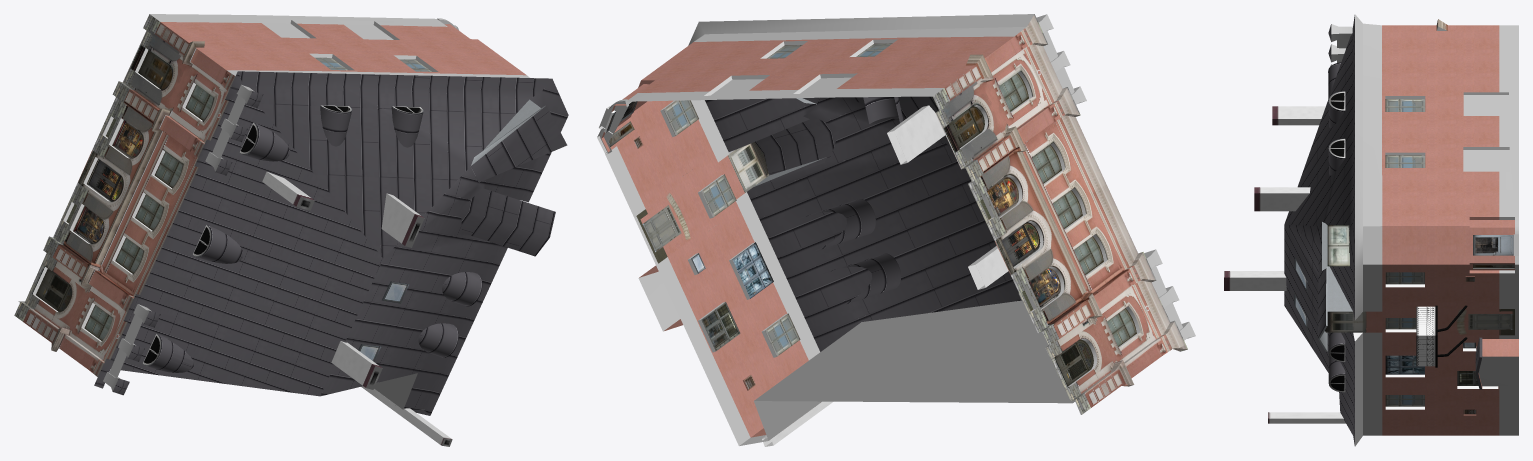
The model's file is Vene_12a.obj.
3 views of the same model, side by side, from view 1: azimuth 30°, elevation 25°; view 2: azimuth 150°, elevation 25°; view 3: azimuth 270°, elevation 25° (orthographic). The views are drawn at different scales.
Parts seen in each view (by area): view 1: Vene_12a; view 2: Vene_12a; view 3: Vene_12a.
Boxes of the visible parts, bbox=[...] form: Vene_12a: bbox=[14, 14, 568, 446]; Vene_12a: bbox=[597, 14, 1195, 446]; Vene_12a: bbox=[1224, 14, 1518, 446].
Bounding box in the file's own units: 26.69 × 21.05 × 16.11.
